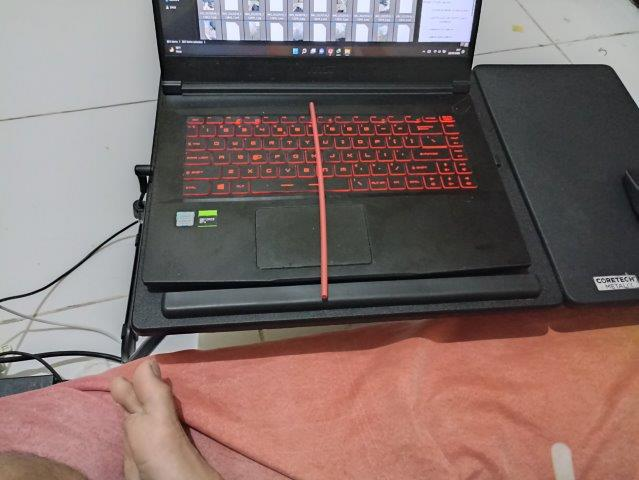sedotan: (309, 102, 327, 297)
